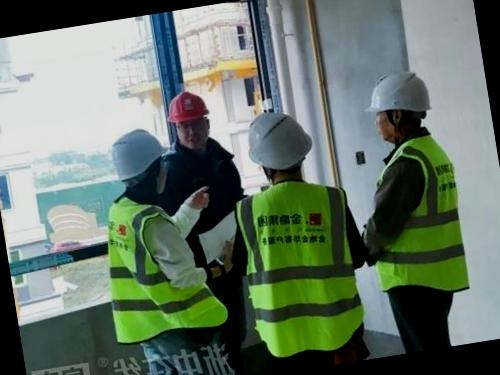helmet: (240, 103, 314, 172), (102, 125, 170, 186), (360, 63, 434, 118), (164, 88, 212, 123)
person: (214, 96, 381, 375), (336, 62, 483, 357), (80, 118, 208, 355), (149, 78, 251, 220)
